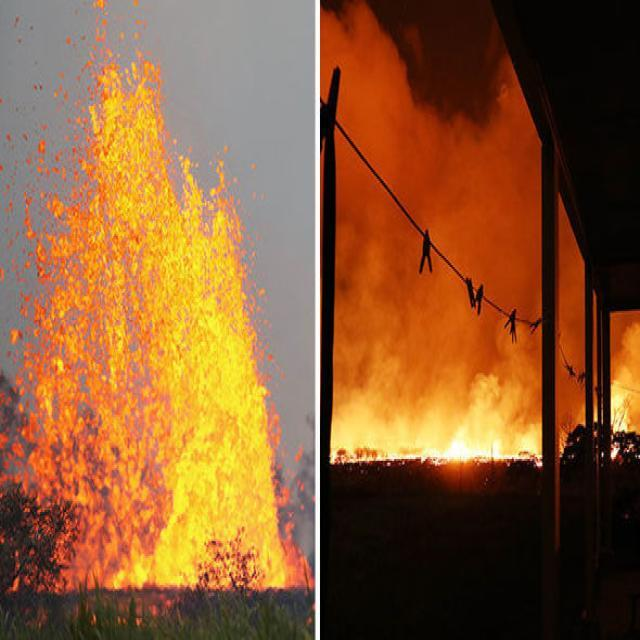Fire: (0, 45, 316, 600)
Smoke: (332, 255, 447, 443), (444, 300, 544, 460), (604, 316, 640, 444)
